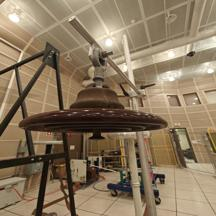insulator: (14, 79, 173, 148)
